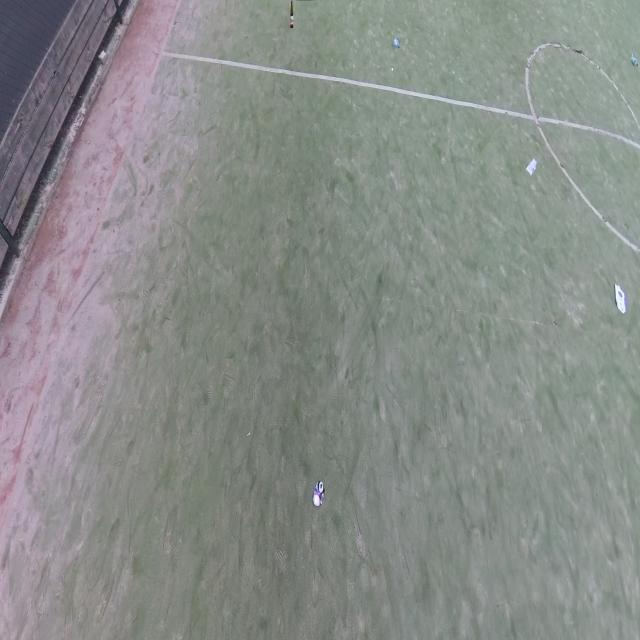rubbish: (312, 481, 325, 508), (615, 285, 626, 313), (525, 158, 538, 177), (630, 50, 638, 66), (290, 2, 294, 29), (393, 38, 401, 48), (452, 70, 454, 75), (391, 68, 393, 72)
